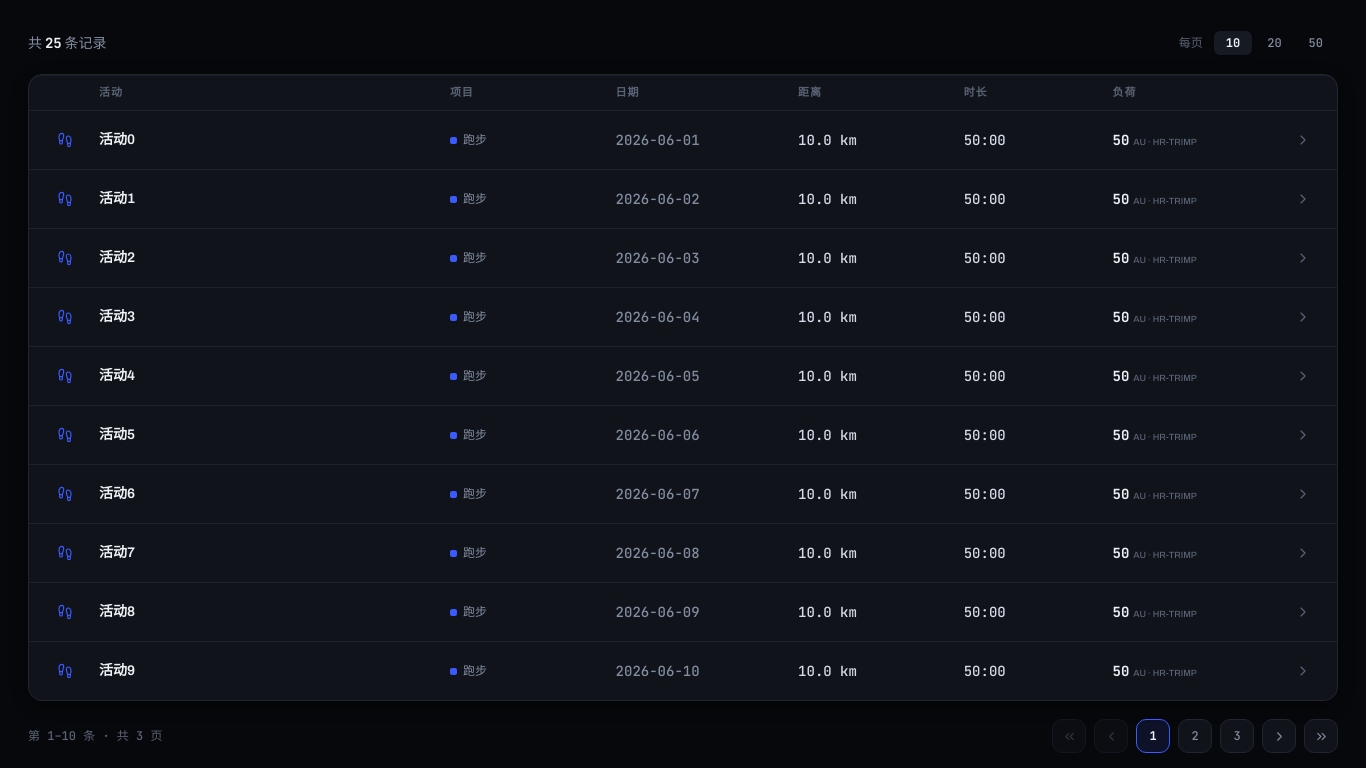
Records (P4) › navigates to the next page
This screenshot has width=1366, height=768.
Click the button named "下一页".
click(1279, 736)  # box [1262, 719, 1296, 753]
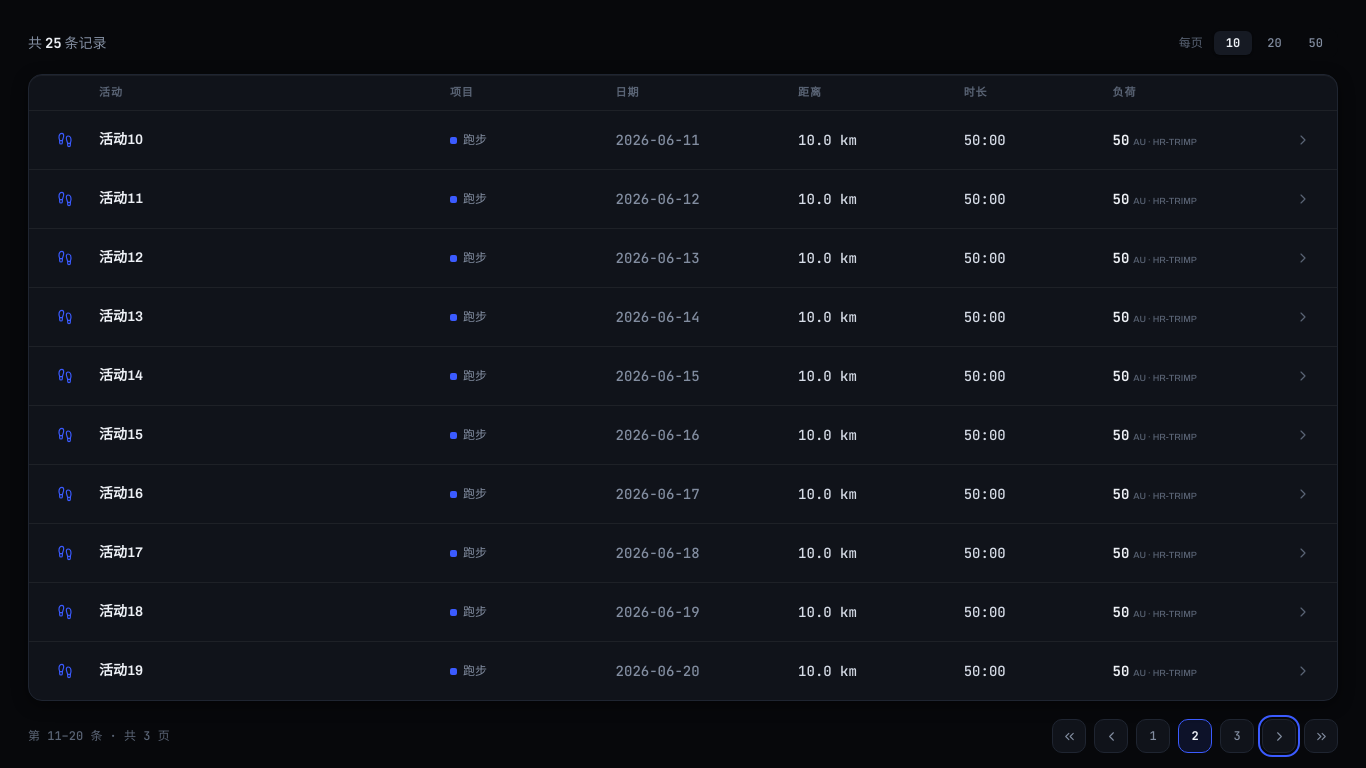
Check: the text "第 11–20 条 · 共 3 页" is shown, box [28, 730, 170, 742]
Check: the text "活动10" is shown, box [99, 132, 143, 147]
Check: the text "活动0" is gone
